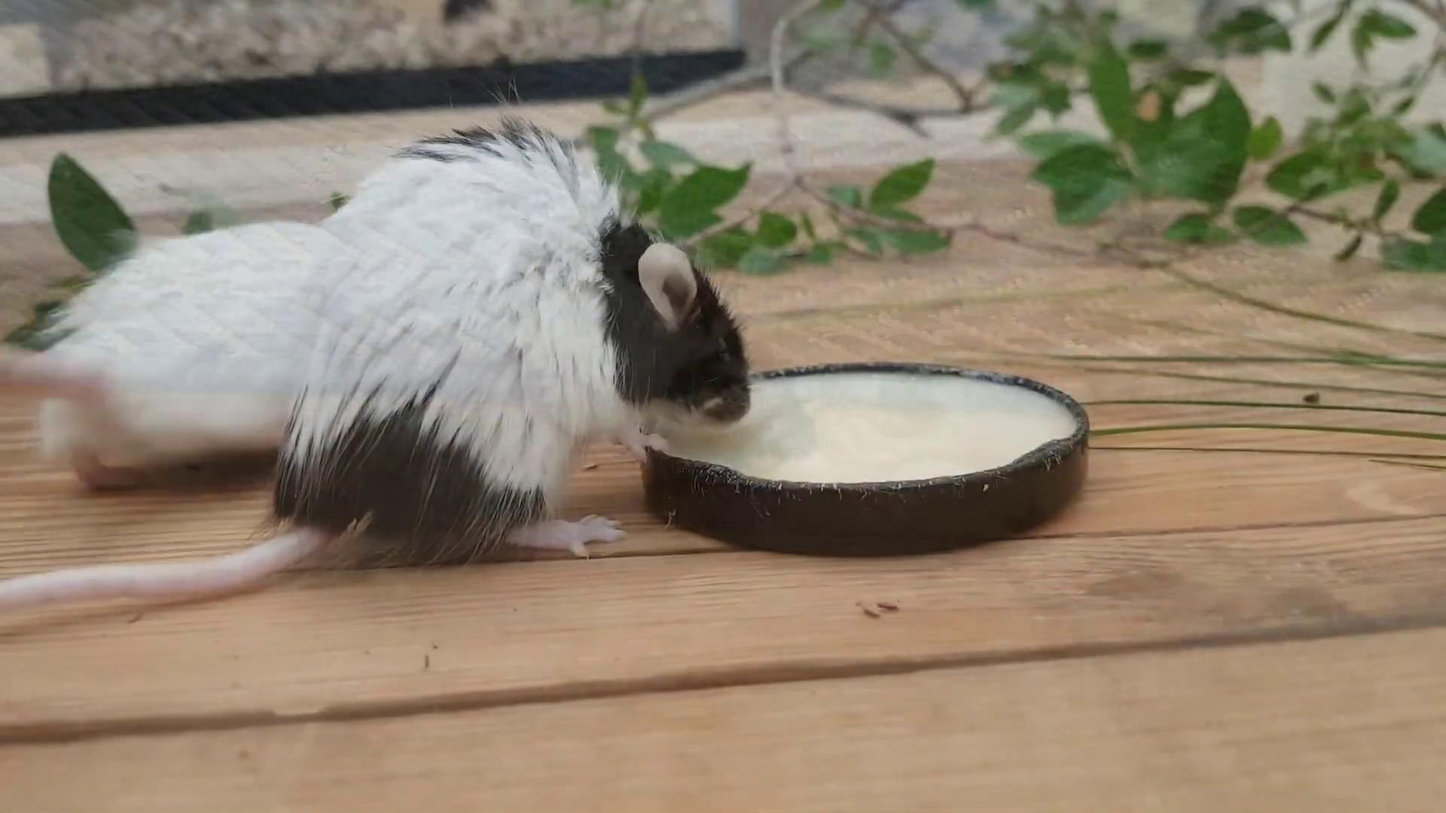rat: (0, 122, 750, 614)
